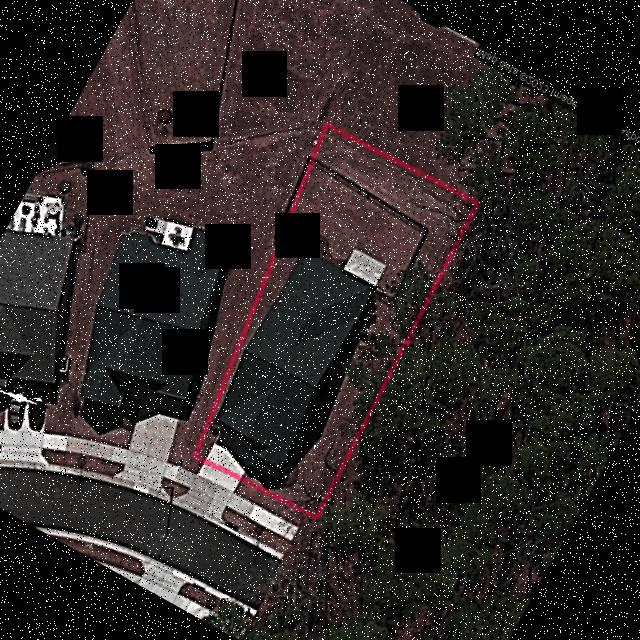Extra Driveway: (172, 474, 232, 527), (197, 463, 239, 491), (207, 443, 242, 474)
Extra Lawn: (234, 481, 315, 532), (222, 506, 291, 553), (187, 457, 200, 473), (173, 484, 188, 494)
Extra Sidewalk: (227, 492, 297, 539), (180, 471, 196, 487)
House: (214, 248, 373, 481)
Other: (343, 247, 386, 286)
